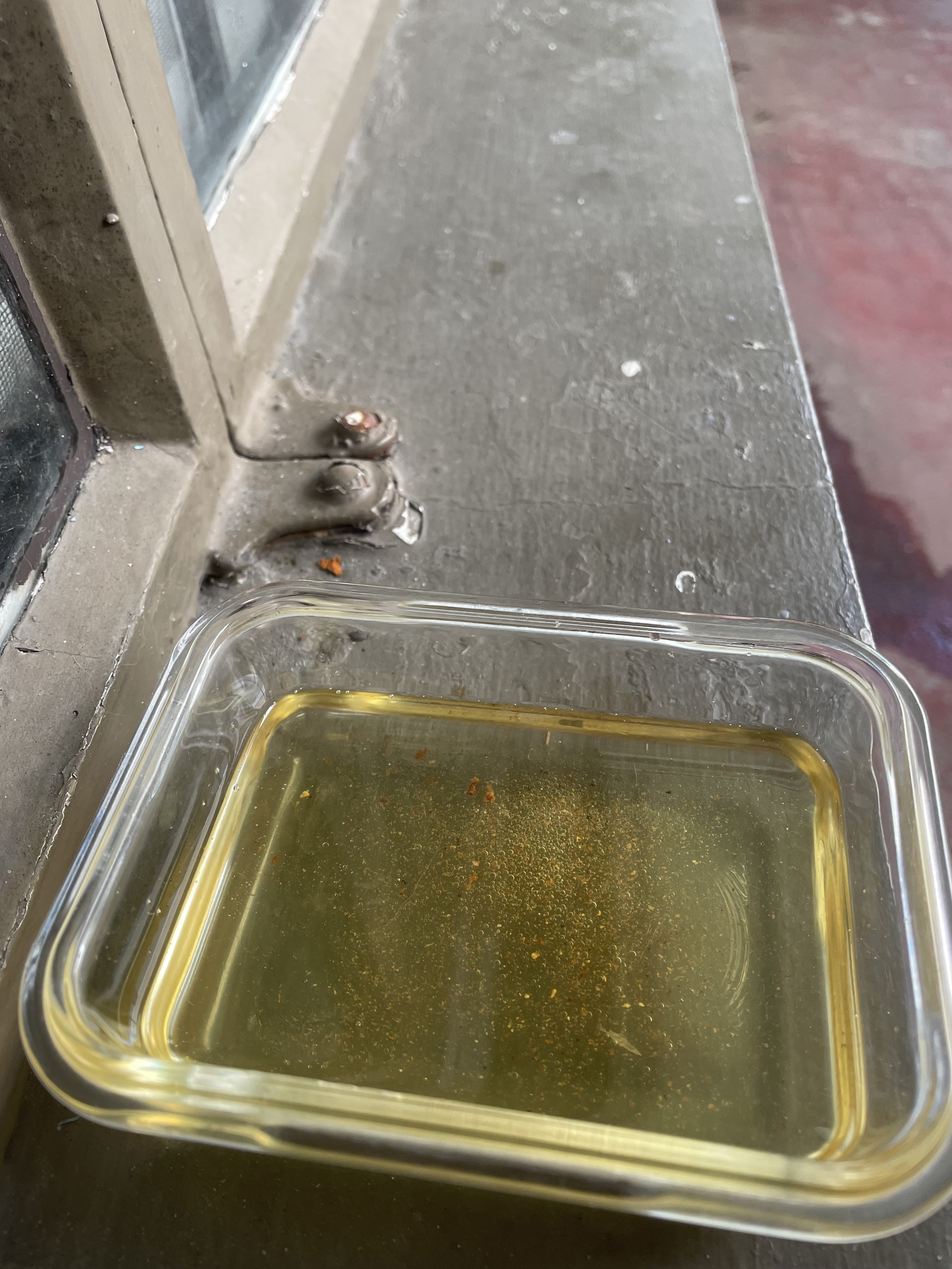reusable: (145, 689, 866, 1165)
